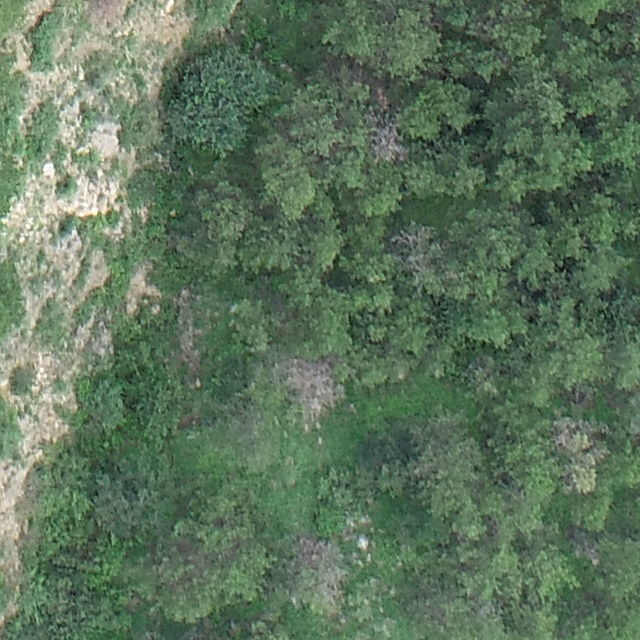unhealthy: (292, 531, 347, 609), (552, 417, 606, 493), (283, 357, 341, 421), (390, 221, 437, 274), (366, 120, 405, 163), (567, 528, 601, 567)
